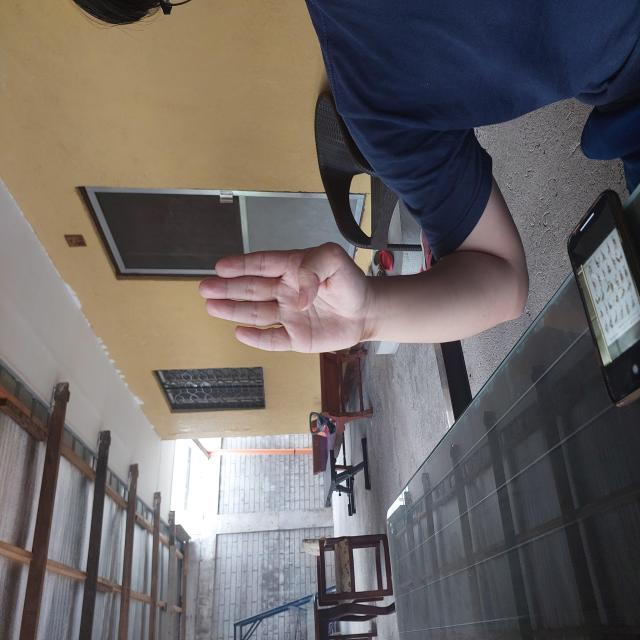B: (286, 196, 400, 376)
